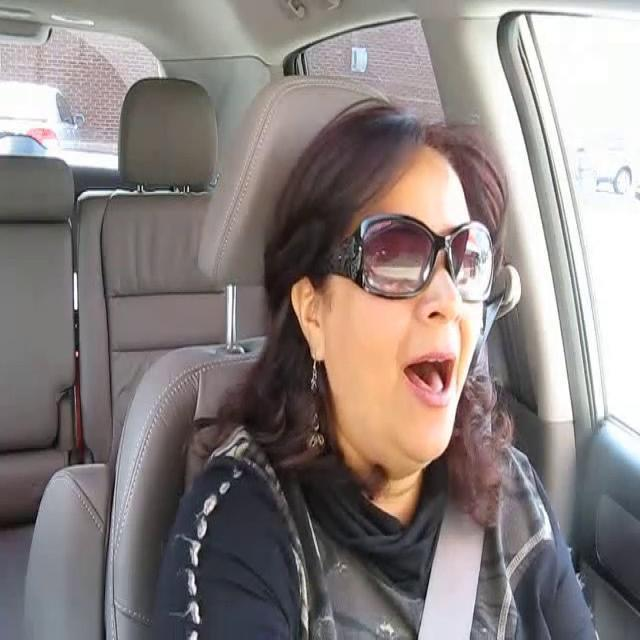open-mouth: (398, 348, 460, 410)
